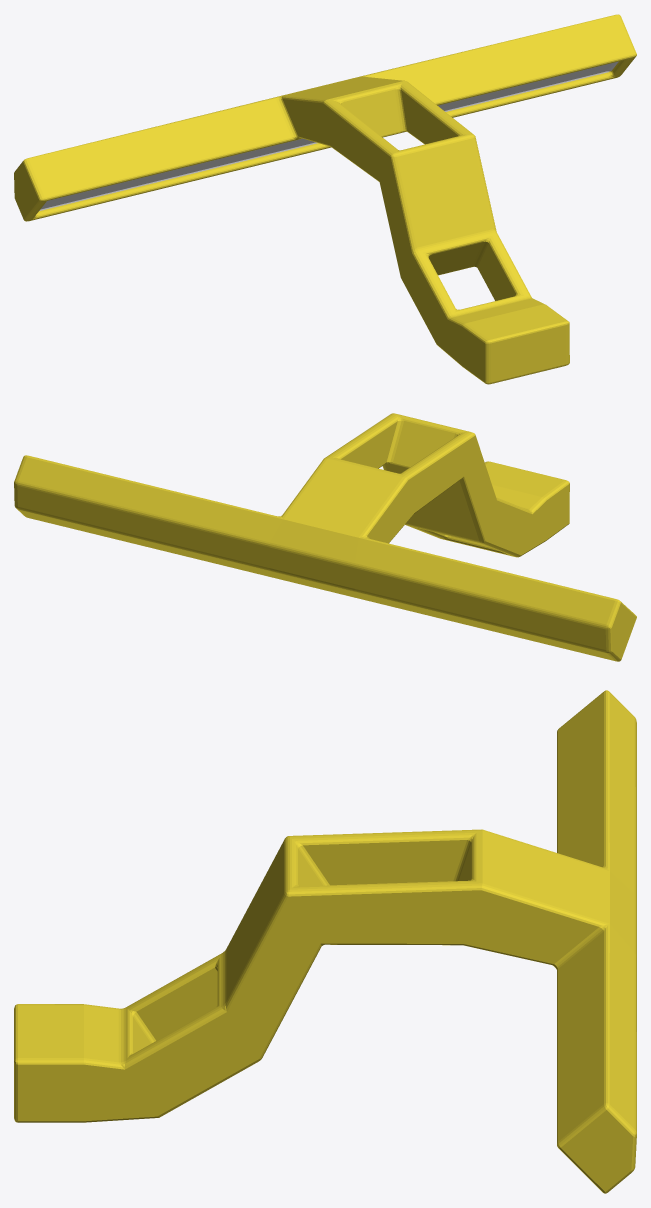
Rendered from Lightning.fbx.
3 renders of one model, top to bottom at view 1: azimuth 30°, elevation 25°; view 2: azimuth 150°, elevation 25°; view 3: azimuth 270°, elevation 25°, orthographic. The views are drawn at different scales.
Parts seen in each view (by area): view 1: Cube.001; view 2: Cube.001; view 3: Cube.001.
Boxes of the visible parts, x1,y1,x2,y2 form: Cube.001: [14, 14, 636, 384]; Cube.001: [14, 413, 636, 661]; Cube.001: [14, 690, 636, 1193].
Size of the model in its own units: 78.92 by 20.95 by 49.68.
